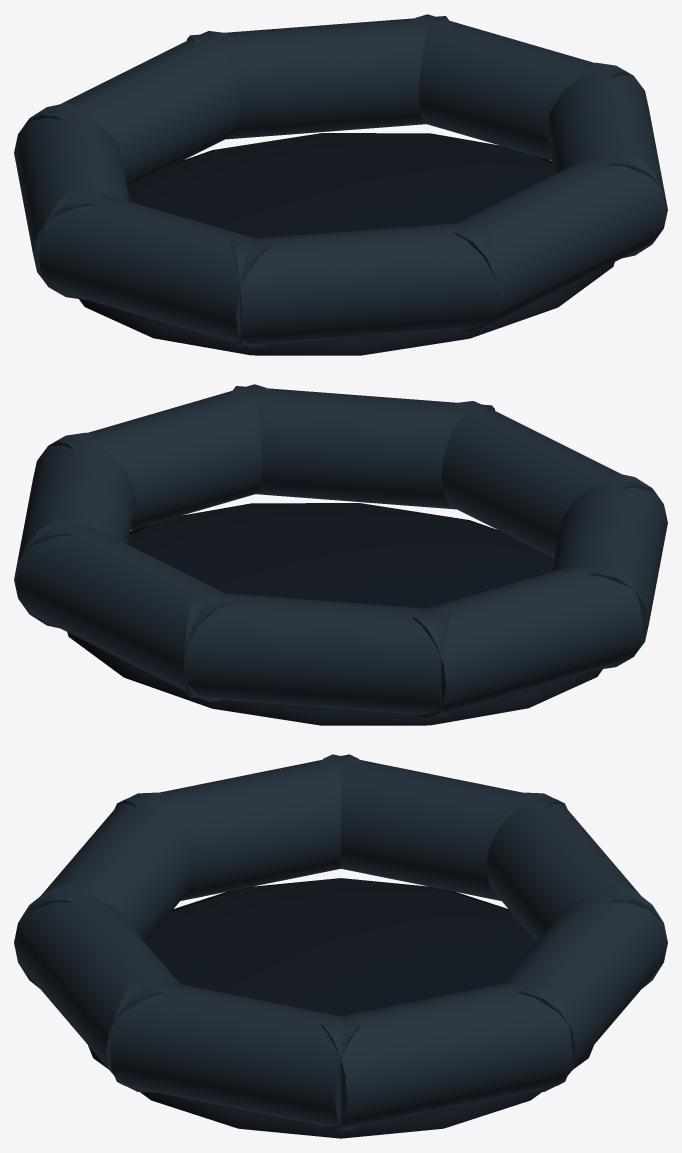
The model's file is CMU3DHiveXenoResinHole.glb.
3 views of the same model, one above another, from view 1: azimuth 30°, elevation 25°; view 2: azimuth 150°, elevation 25°; view 3: azimuth 270°, elevation 25° (orthographic). The views are drawn at different scales.
Parts seen in each view (by area): view 1: rolled organic lip (×8), recessed dark entrance; view 2: rolled organic lip (×8), recessed dark entrance; view 3: rolled organic lip (×8), recessed dark entrance.
Part boxes in pixels (bbox=[...]): rolled organic lip (×8): bbox=[14, 14, 667, 348]; recessed dark entrance: bbox=[79, 133, 614, 355]; rolled organic lip (×8): bbox=[14, 384, 667, 718]; recessed dark entrance: bbox=[67, 503, 602, 725]; rolled organic lip (×8): bbox=[14, 754, 667, 1130]; recessed dark entrance: bbox=[88, 878, 593, 1138].
Size of the model in its own units: 0.4758 by 0.1 by 0.4243.
